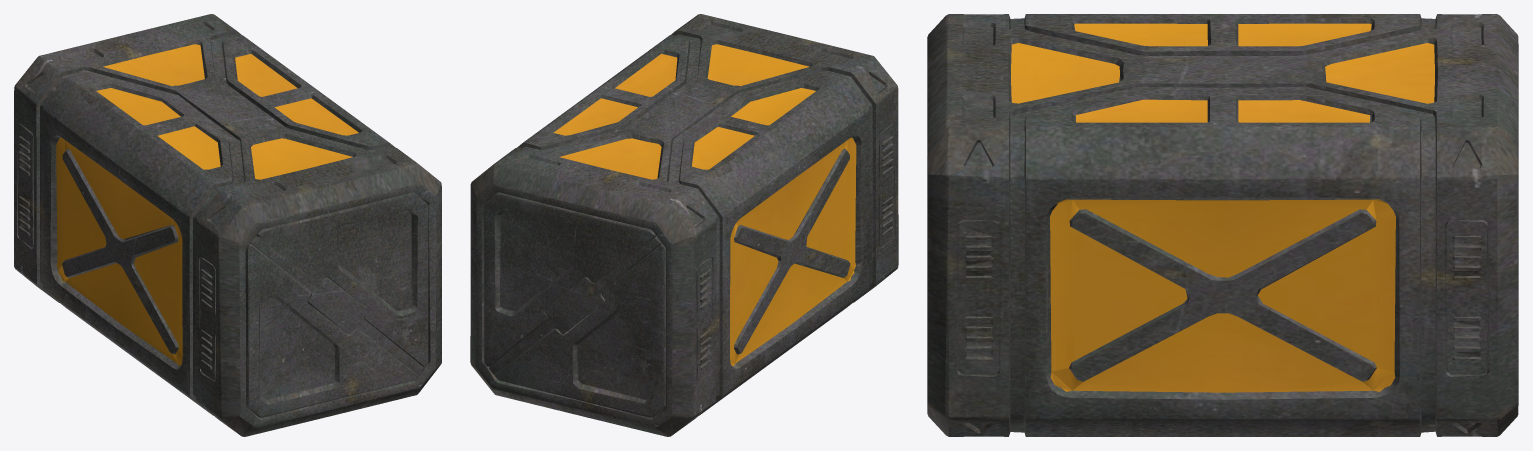
The model's file is yellow_box.FBX.
3 views of the same model, side by side, from view 1: azimuth 30°, elevation 25°; view 2: azimuth 150°, elevation 25°; view 3: azimuth 270°, elevation 25° (orthographic). The views are drawn at different scales.
Parts seen in each view (by area): view 1: Cube_4; view 2: Cube_4; view 3: Cube_4.
Boxes of the visible parts, bbox=[...] form: Cube_4: bbox=[14, 14, 441, 436]; Cube_4: bbox=[470, 14, 898, 436]; Cube_4: bbox=[927, 14, 1518, 436].
Bounding box in the file's own units: 1.26 × 1.23 × 2.13.
